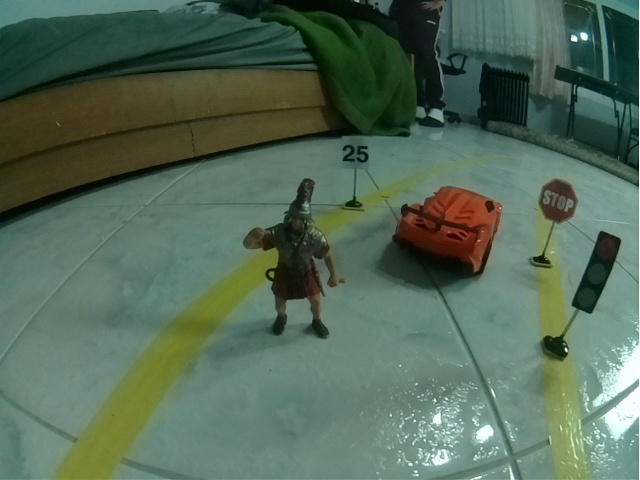Lambo: (391, 185, 503, 277)
Person: (242, 178, 348, 340)
Red Traffic Light: (571, 231, 622, 315)
Speed Limit 25: (339, 136, 371, 170)
Stop: (538, 179, 579, 225)
